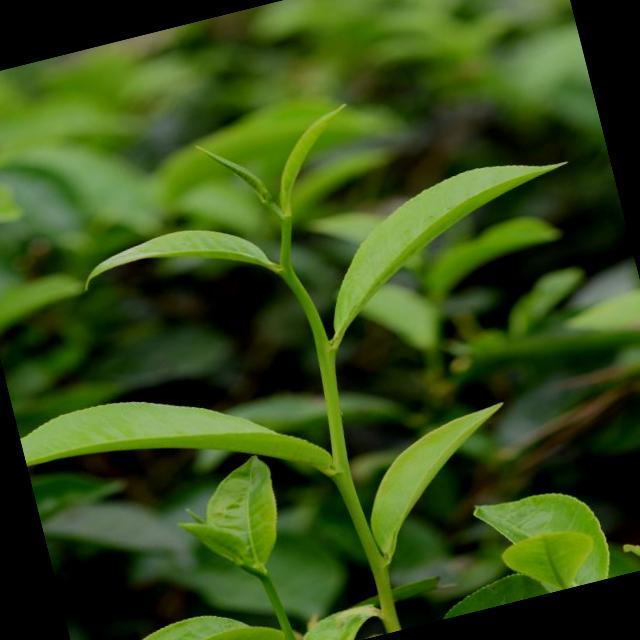Stem: (286, 274, 317, 317)
